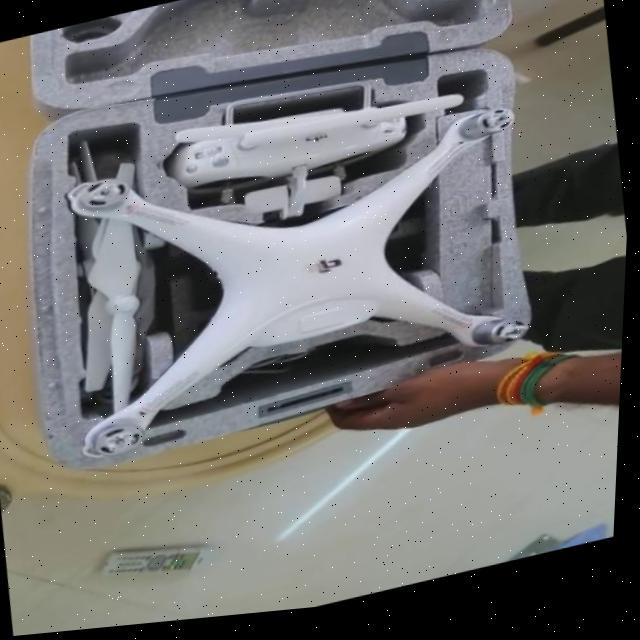drones: (37, 56, 586, 454)
